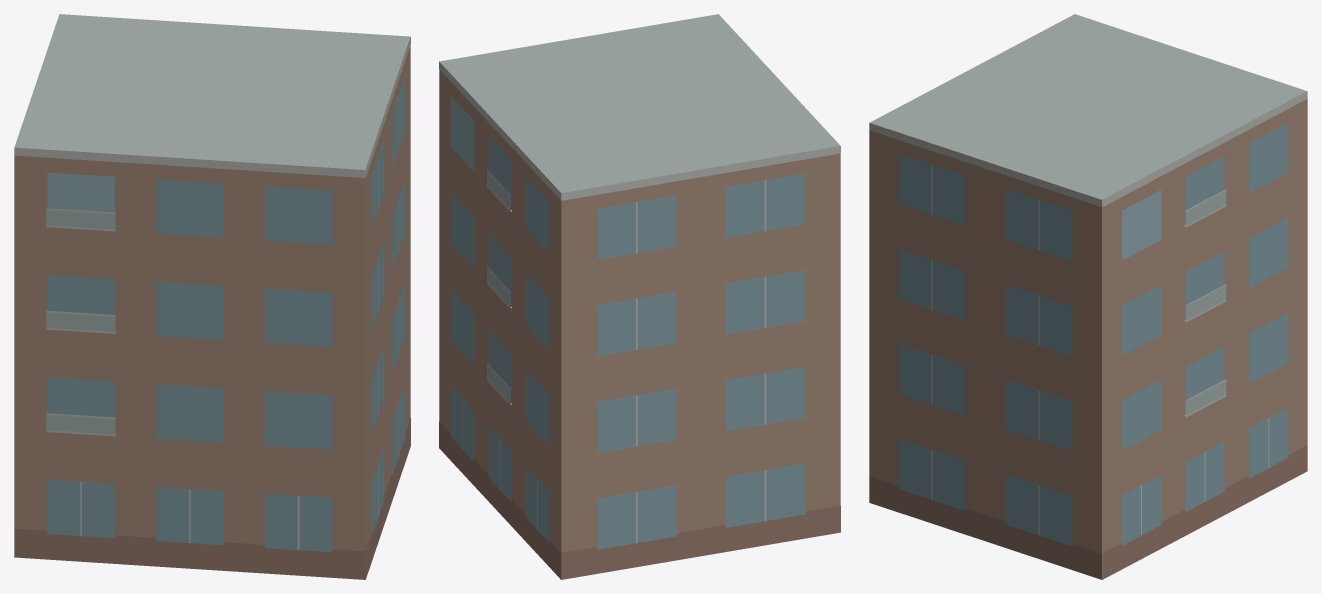
Rendered from survey-upis-32639436.glb.
The picture shows the model from 3 angles, left to right: view 1: azimuth 30°, elevation 25°; view 2: azimuth 150°, elevation 25°; view 3: azimuth 270°, elevation 25°; orthographic projection. The views are drawn at different scales.
Visible parts, largest first — view 1: survey-upis-32639436.tmp; view 2: survey-upis-32639436.tmp; view 3: survey-upis-32639436.tmp.
Boxes of the visible parts, x1=… form: survey-upis-32639436.tmp: x1=14, y1=14, x2=410, y2=579; survey-upis-32639436.tmp: x1=439, y1=14, x2=840, y2=579; survey-upis-32639436.tmp: x1=869, y1=14, x2=1307, y2=579.
Bounding box in the file's own units: 13.13 × 12.5 × 13.08.
